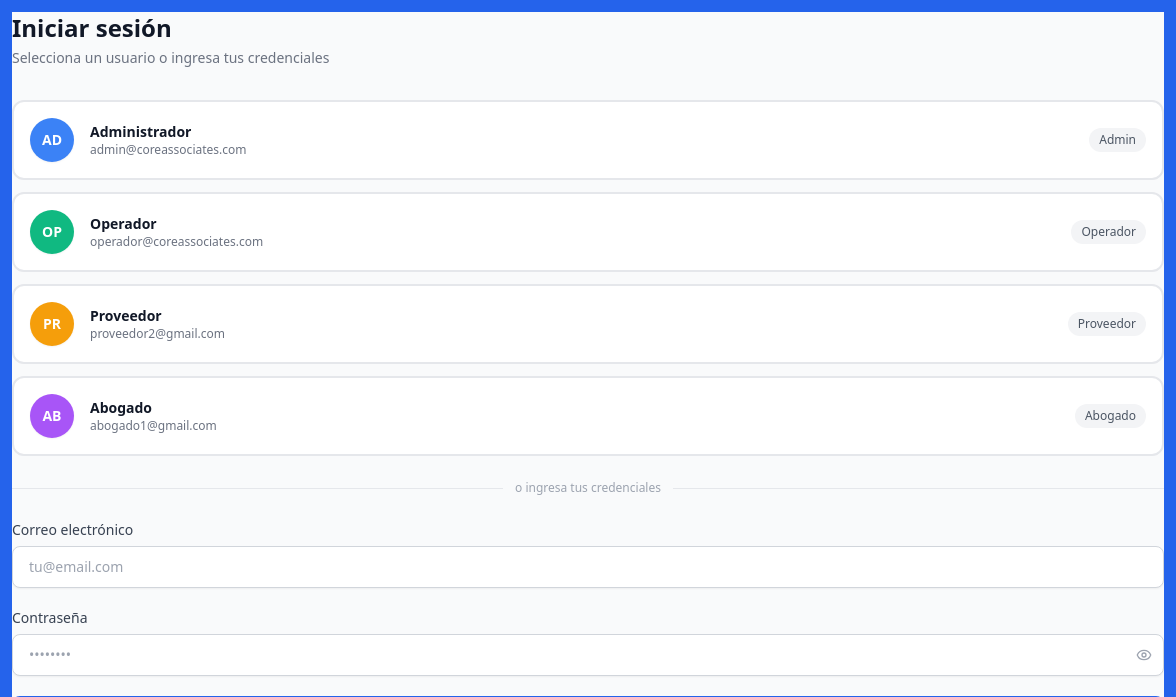
Test case: LoginPage › should fill form when preset user is clicked
The image size is (1176, 697).
Click the text "admin@coreassociates.com" at (168, 150), box [90,141,246,158]
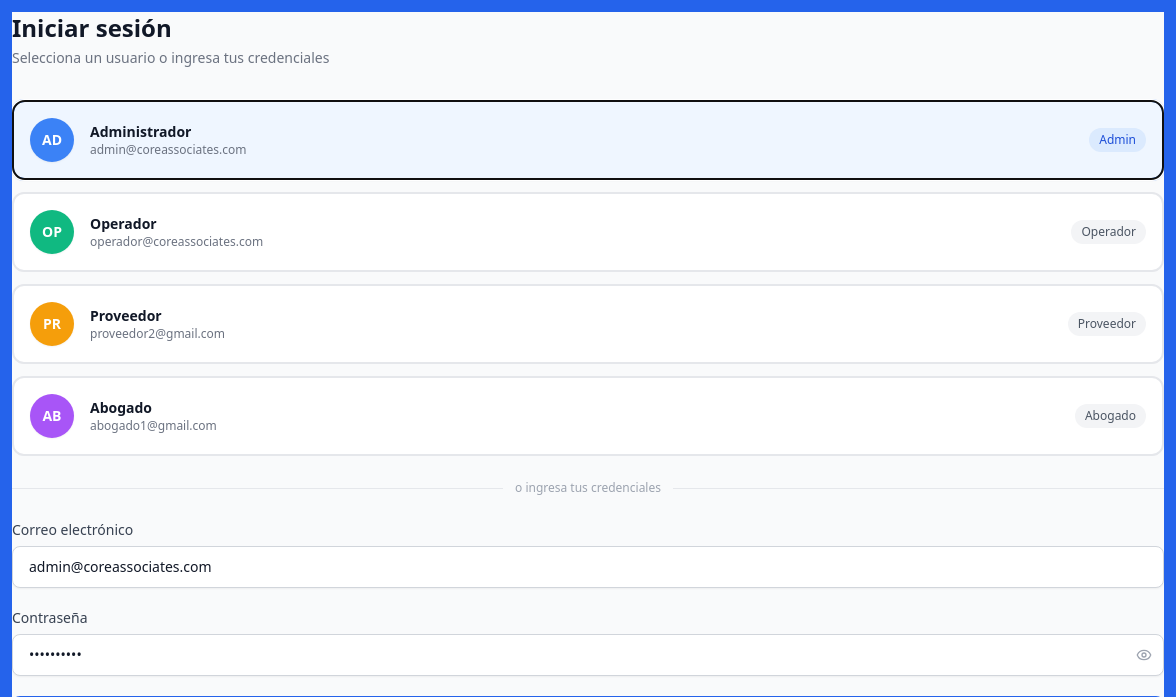
Expected: the field labelled "Correo electrónico" holds "admin@coreassociates.com", [12,546,1164,588]
